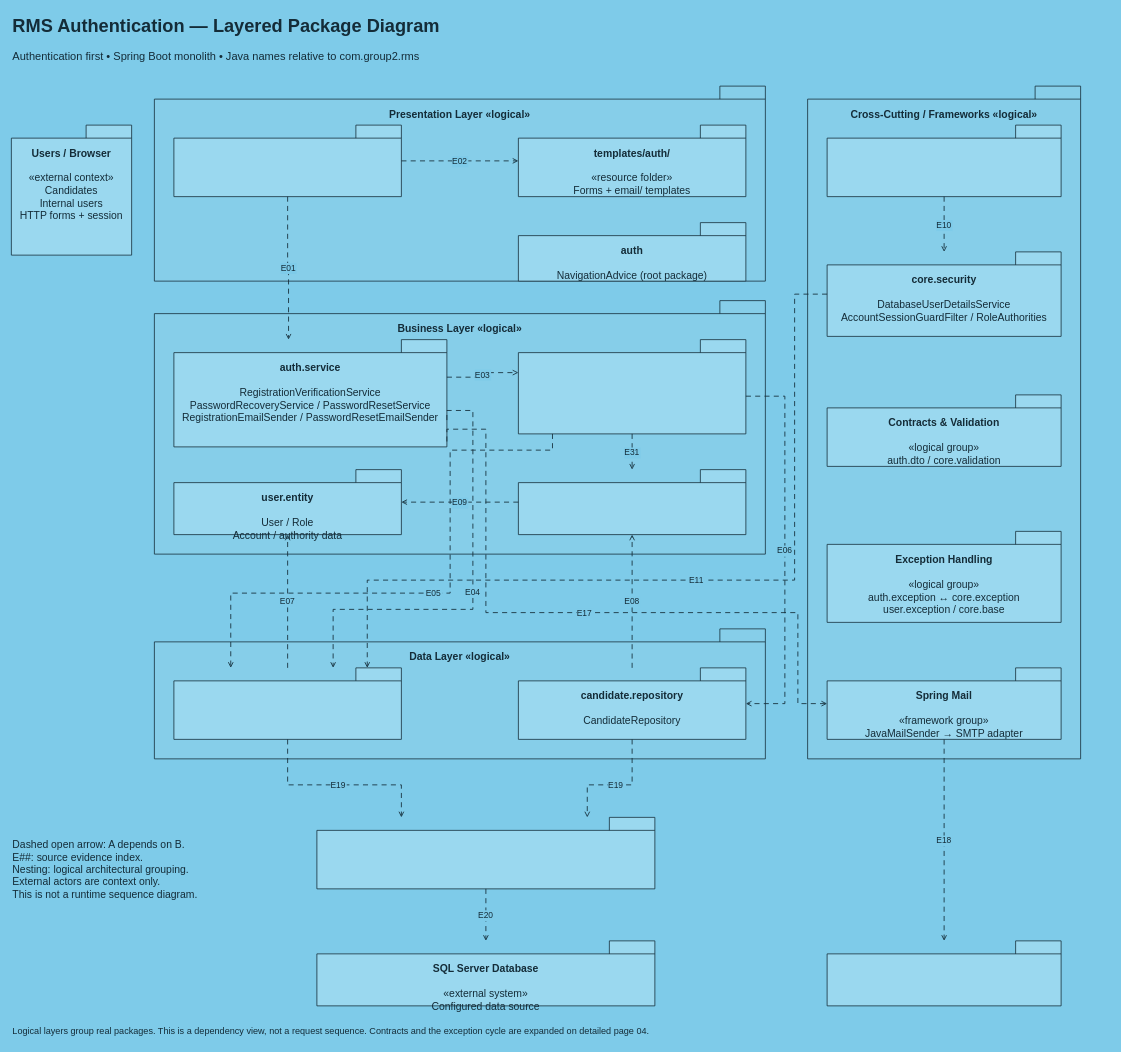
Image size: 1121x1052. Some labels were removed from this diagram. Each missing label, with the centre of its shape:
"auth.controller Auth / Registration / Recovery MVC controllers (scope slice)" goes at (287,160).
"candidate.entity Candidate → linked User" goes at (632,502).
"core.config SecurityConfig Filter chain / BCrypt bean" goes at (943,160).
"SMTP Server «external system» Configured email delivery" goes at (943,973).
"Spring Data JPA / JDBC «framework group» JpaRepository + SQL Server driver" goes at (485,853).
"user.repository UserRepository / RoleRepository" goes at (287,703).
"user.service AccountManagementService Candidate registration methods only" goes at (632,386).
